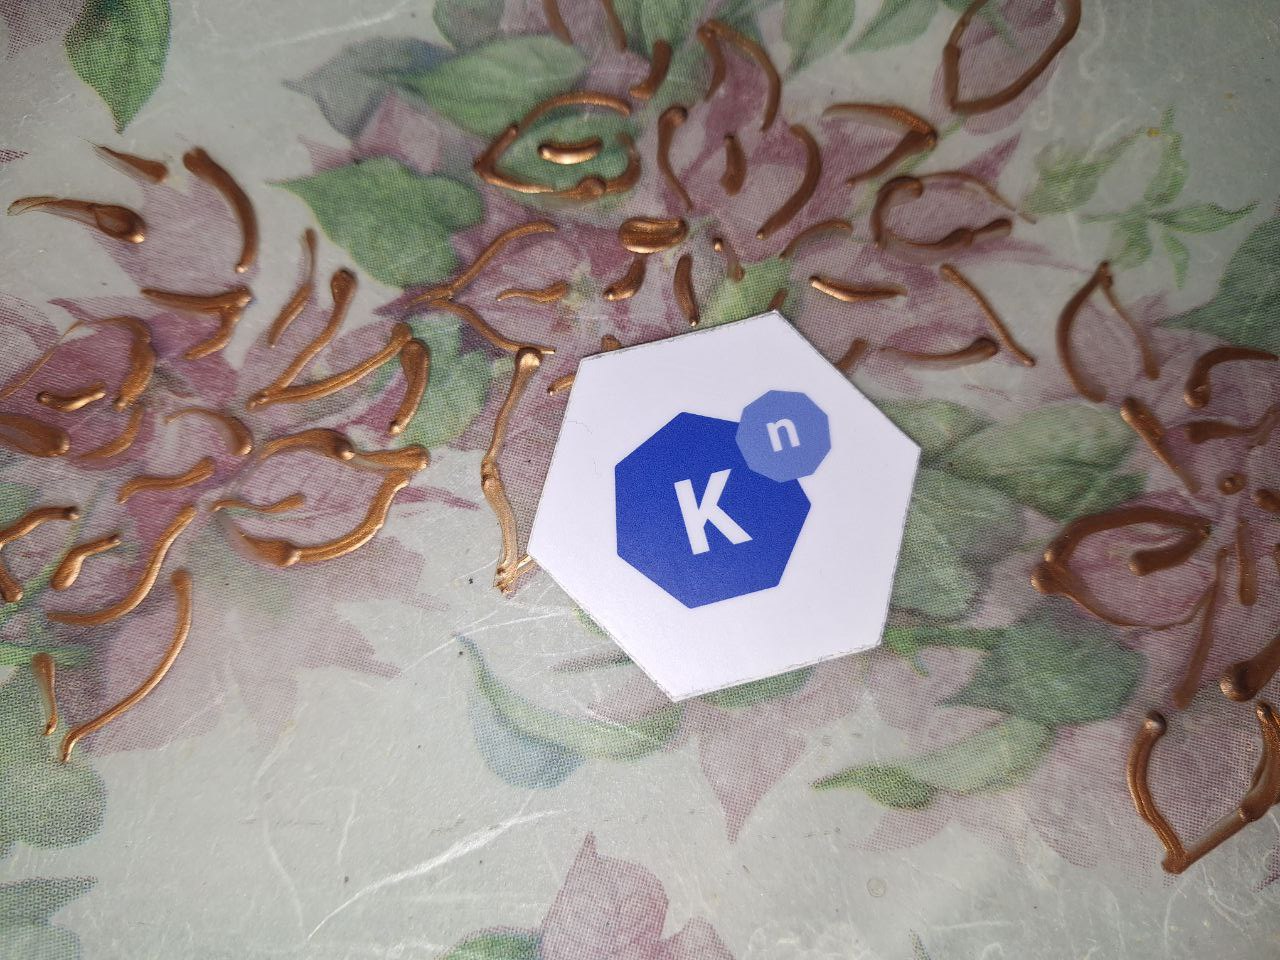knative: (611, 388, 837, 609)
